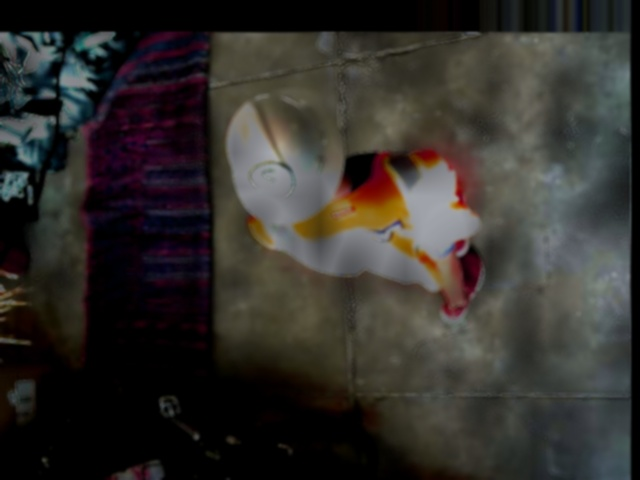three: (248, 161, 293, 199)
